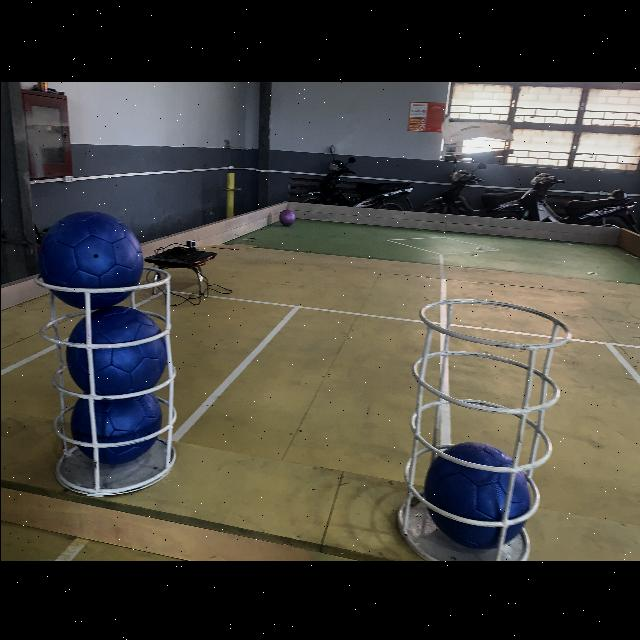B: (422, 440, 530, 550), (38, 210, 142, 306), (64, 304, 166, 394), (67, 388, 161, 466)
